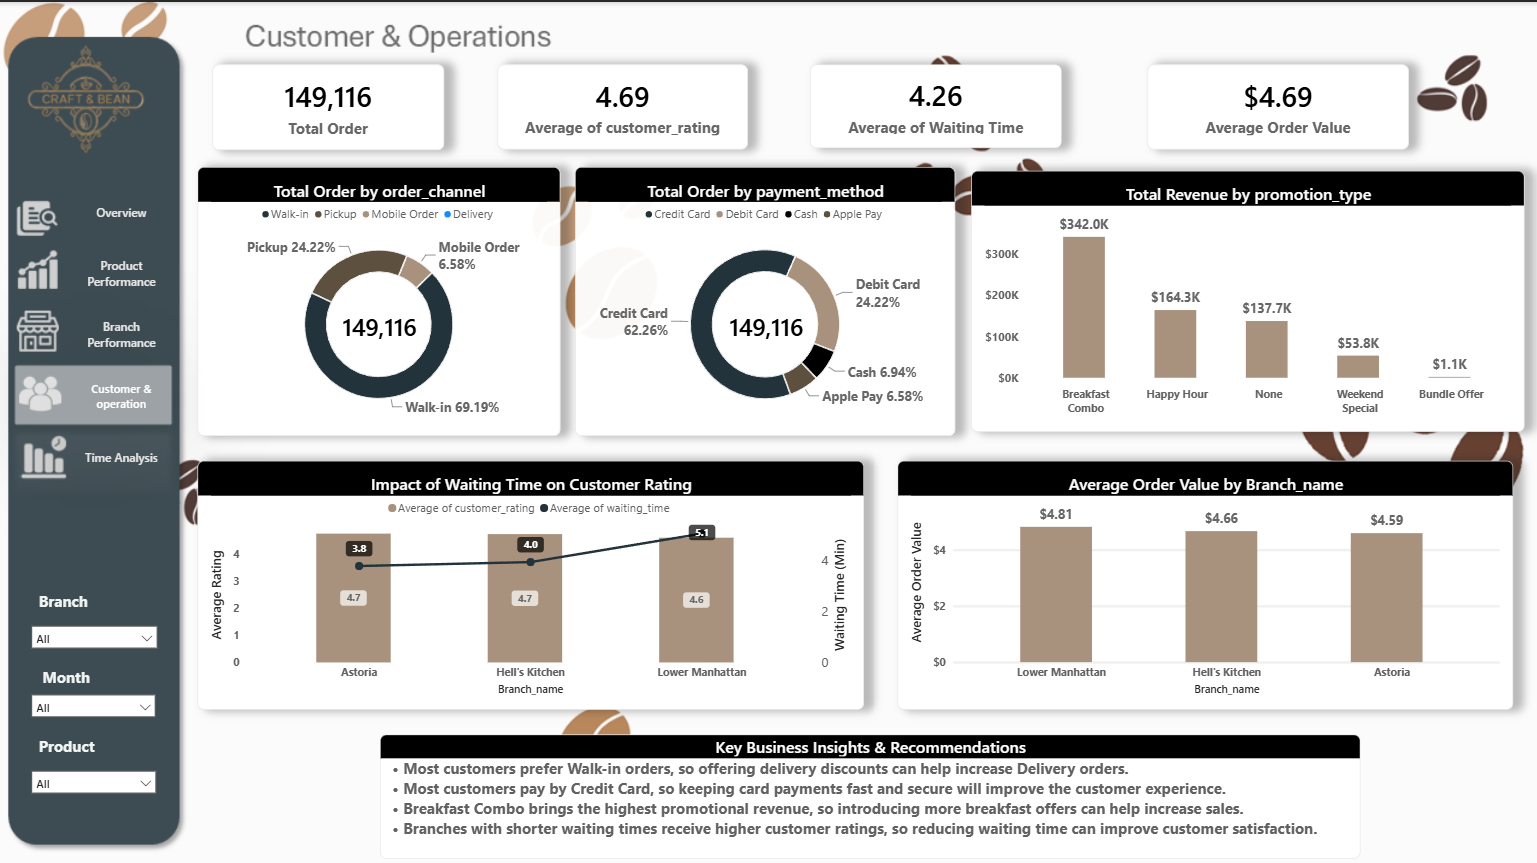

Layout of this report page (visuals, bound fields, positions):
{"tool":"powerbi","page":{"name":"Customer & operation","canvas":[1920,1080],"ordinal":3},"visuals":[{"type":"textbox","box":[58.4,826.7,69.3,30.3],"z":0},{"type":"slicer","fields":{"Values":["coffee_sales.Month Name"]},"box":[41.1,857,164.5,43.3],"z":1000},{"type":"slicer","fields":{"Values":["coffee_sales.product_detail"]},"box":[40.8,951,165,44.2],"z":2000},{"type":"textbox","box":[54.4,911.9,103.8,27.2],"z":3000},{"type":"slicer","fields":{"Values":["coffee_sales.Branch_name"]},"box":[41.1,770.4,166.6,41.1],"z":4000},{"type":"textbox","box":[54.4,731.6,78.3,39.1],"z":5000},{"type":"pageNavigator","box":[91.9,228,131,374.3],"z":6000},{"type":"card","fields":{"Values":["Measures_Table.Total Order"]},"box":[270.5,77.9,287.8,106],"z":7000},{"type":"card","fields":{"Values":["Avg(coffee_sales.customer_rating)"]},"box":[624.4,78.3,311.3,105.5],"z":8000},{"type":"card","fields":{"Values":["Avg(coffee_sales.waiting_time)"]},"box":[1014,78.3,313,103.8],"z":9000},{"type":"donutChart","fields":{"Category":["coffee_sales.order_channel"],"Y":["Measures_Table.Total Order"]},"box":[251.7,204.9,451.2,334.4],"z":10000},{"type":"donutChart","fields":{"Category":["coffee_sales.payment_method"],"Y":["Measures_Table.Total Order"]},"box":[720.9,204.9,472.8,334.4],"z":11000},{"type":"lineClusteredColumnComboChart","title":"Impact of Waiting Time on Customer Rating","fields":{"Category":["coffee_sales.Branch_name"],"Y":["Avg(coffee_sales.customer_rating)"],"Y2":["Avg(coffee_sales.waiting_time)"]},"box":[251.7,569.9,828.8,309.2],"z":12000},{"type":"card","fields":{"Values":["Measures_Table.Total Order"]},"box":[406.6,372.6,141.2,64.7],"z":13000},{"type":"card","fields":{"Values":["Measures_Table.Total Order"]},"box":[888.1,372.6,142.9,64.7],"z":14000},{"type":"card","fields":{"Values":["coffee_sales.Average Order Value"]},"box":[1432.5,78.3,325,105.5],"z":15000},{"type":"columnChart","fields":{"Category":["coffee_sales.promotion_type"],"Y":["Measures_Table.Total Revenue"]},"box":[1214.1,209.9,688.2,324.6],"z":16000},{"type":"textbox","title":"    Key Business Insights & Recommendations","box":[478.2,911.5,1218.9,154.6],"z":17000},{"type":"clusteredColumnChart","fields":{"Category":["coffee_sales.Branch_name"],"Y":["coffee_sales.Average Order Value"]},"box":[1121.8,569.9,765.8,309.2],"z":18000}]}

Visuals, with their boxes on the page's 1920x1080 design canvas (x1, y1, x2, y2). These are canvas units, not pixel positions in the 1537x863 screenshot, which may show the page scaled, cropped or inside an application window:
textbox: rect(58, 827, 128, 857)
slicer - coffee_sales.Month Name: rect(41, 857, 206, 900)
slicer - coffee_sales.product_detail: rect(41, 951, 206, 995)
textbox: rect(54, 912, 158, 939)
slicer - coffee_sales.Branch_name: rect(41, 770, 208, 812)
textbox: rect(54, 732, 133, 771)
pageNavigator: rect(92, 228, 223, 602)
card - Measures_Table.Total Order: rect(270, 78, 558, 184)
card - Avg(coffee_sales.customer_rating): rect(624, 78, 936, 184)
card - Avg(coffee_sales.waiting_time): rect(1014, 78, 1327, 182)
donutChart - coffee_sales.order_channel x Measures_Table.Total Order: rect(252, 205, 703, 539)
donutChart - coffee_sales.payment_method x Measures_Table.Total Order: rect(721, 205, 1194, 539)
"Impact of Waiting Time on Customer Rating" lineClusteredColumnComboChart: rect(252, 570, 1080, 879)
card - Measures_Table.Total Order: rect(407, 373, 548, 437)
card - Measures_Table.Total Order: rect(888, 373, 1031, 437)
card - coffee_sales.Average Order Value: rect(1432, 78, 1758, 184)
columnChart - coffee_sales.promotion_type x Measures_Table.Total Revenue: rect(1214, 210, 1902, 534)
"    Key Business Insights & Recommendations" textbox: rect(478, 912, 1697, 1066)
clusteredColumnChart - coffee_sales.Branch_name x coffee_sales.Average Order Value: rect(1122, 570, 1888, 879)
